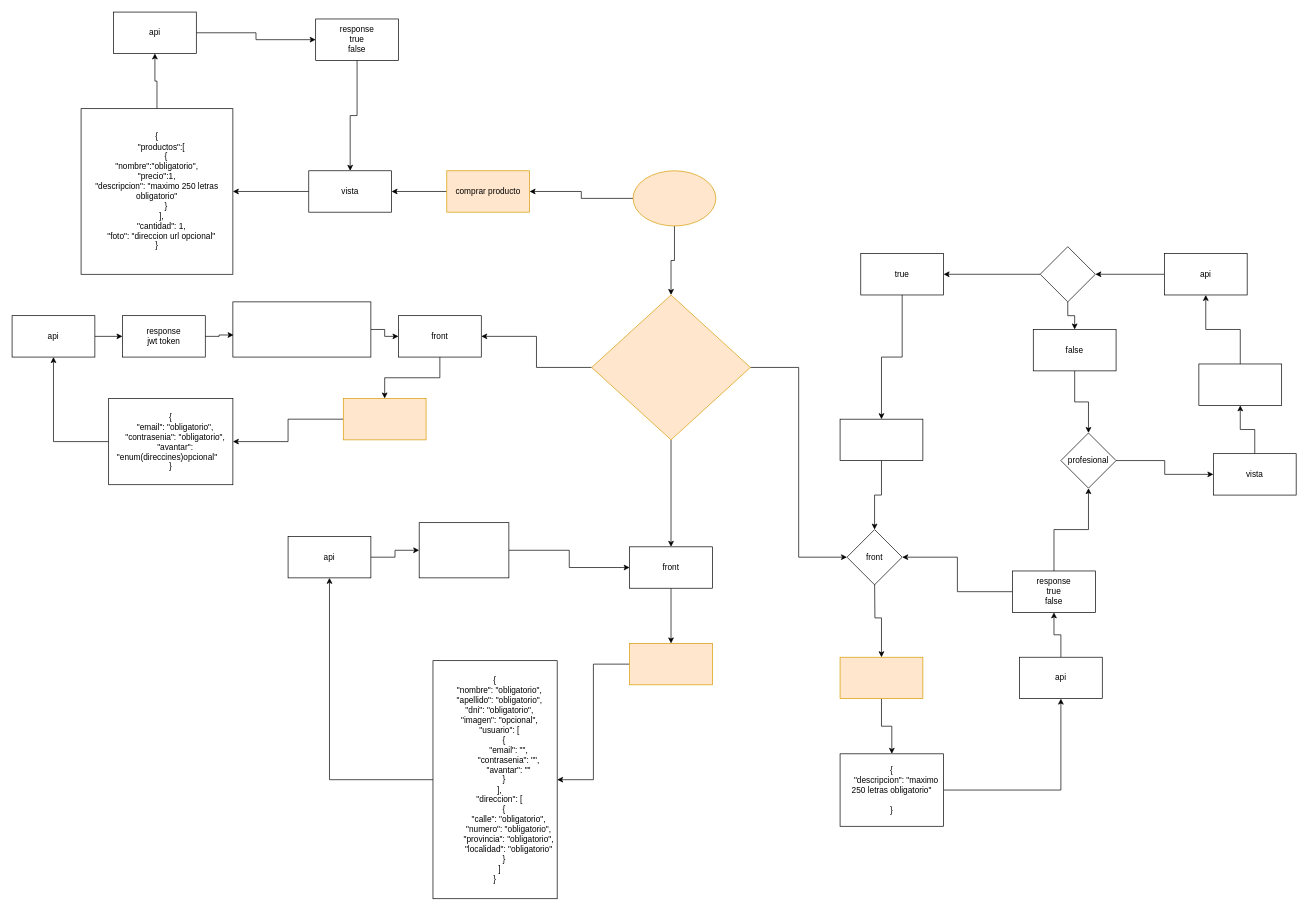
This 1308x911 diagram has some shape labels left out. Here are the shapes that lost their labels. From the top down, the centre of each, then its label:
the point at 674,198: cliente
the point at 1067,274: response
the point at 301,329: localStorage.setItem('jwtToken', token);
the point at 670,367: pedidos
the point at 1240,384: { "precio": 1 }
the point at 384,419: login
the point at 881,439: vuelve al cliente acepta o cancela
the point at 463,550: response true o false
the point at 670,664: crear clientes
the point at 881,678: crear orden de trabajo
